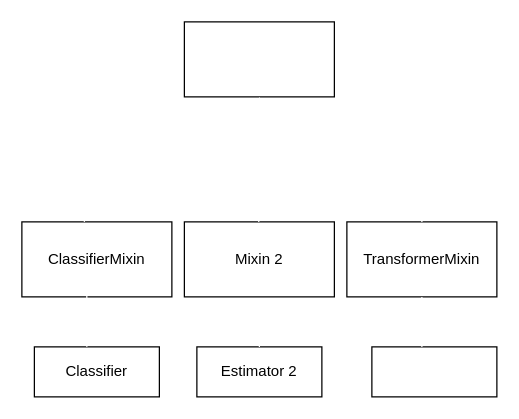
Some shapes in this 519 by 419 pixel diagram are drawn without their labels. The shapes that lost their labels are listed below. From the top down, each one's centre as x and y in pixels, then its label:
At point 258,59: "BaseEstimator".
At point 434,371: "Transformer".
